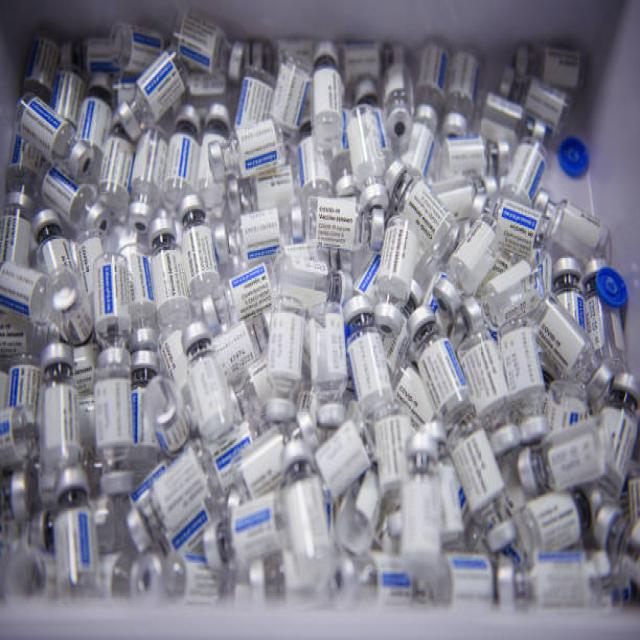glass: (43, 42, 585, 550)
